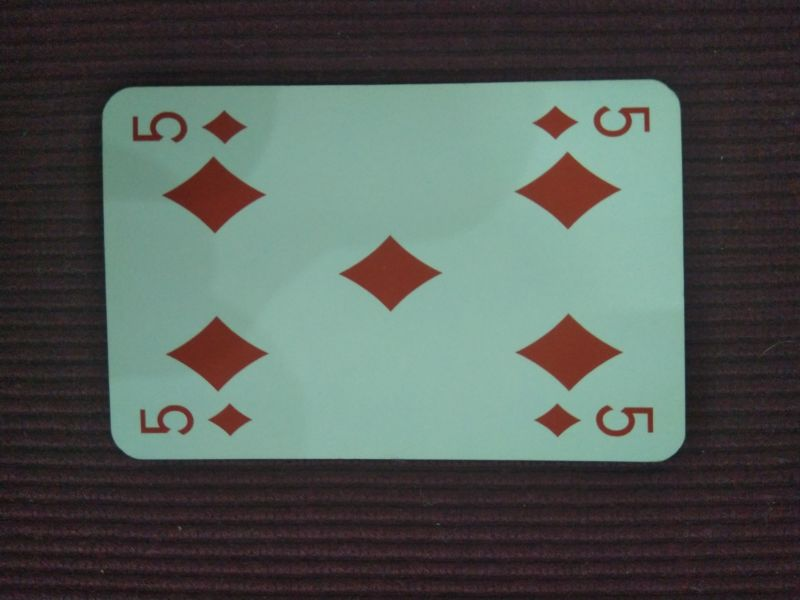5d: (127, 100, 253, 149), (531, 398, 659, 440), (133, 400, 255, 442), (530, 103, 653, 144)
